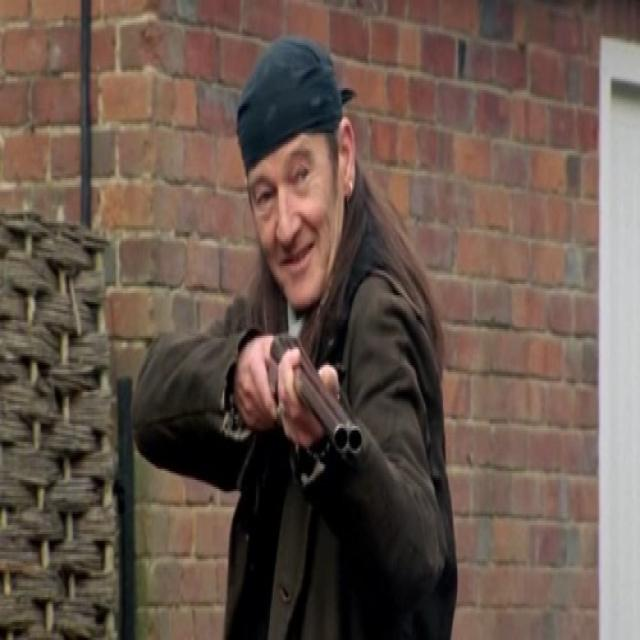rifle: (268, 332, 369, 467)
